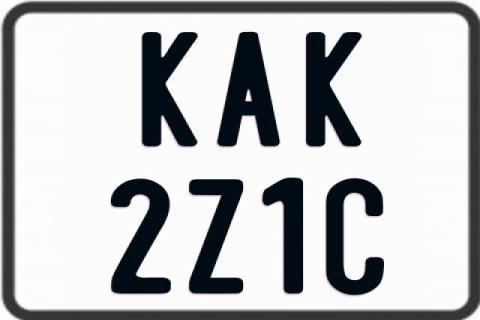0: (110, 178, 175, 298), (261, 177, 304, 293)
A: (217, 31, 281, 146)
C: (326, 176, 386, 298)
K: (141, 31, 198, 148), (303, 32, 359, 151)
Z: (186, 179, 242, 297)
